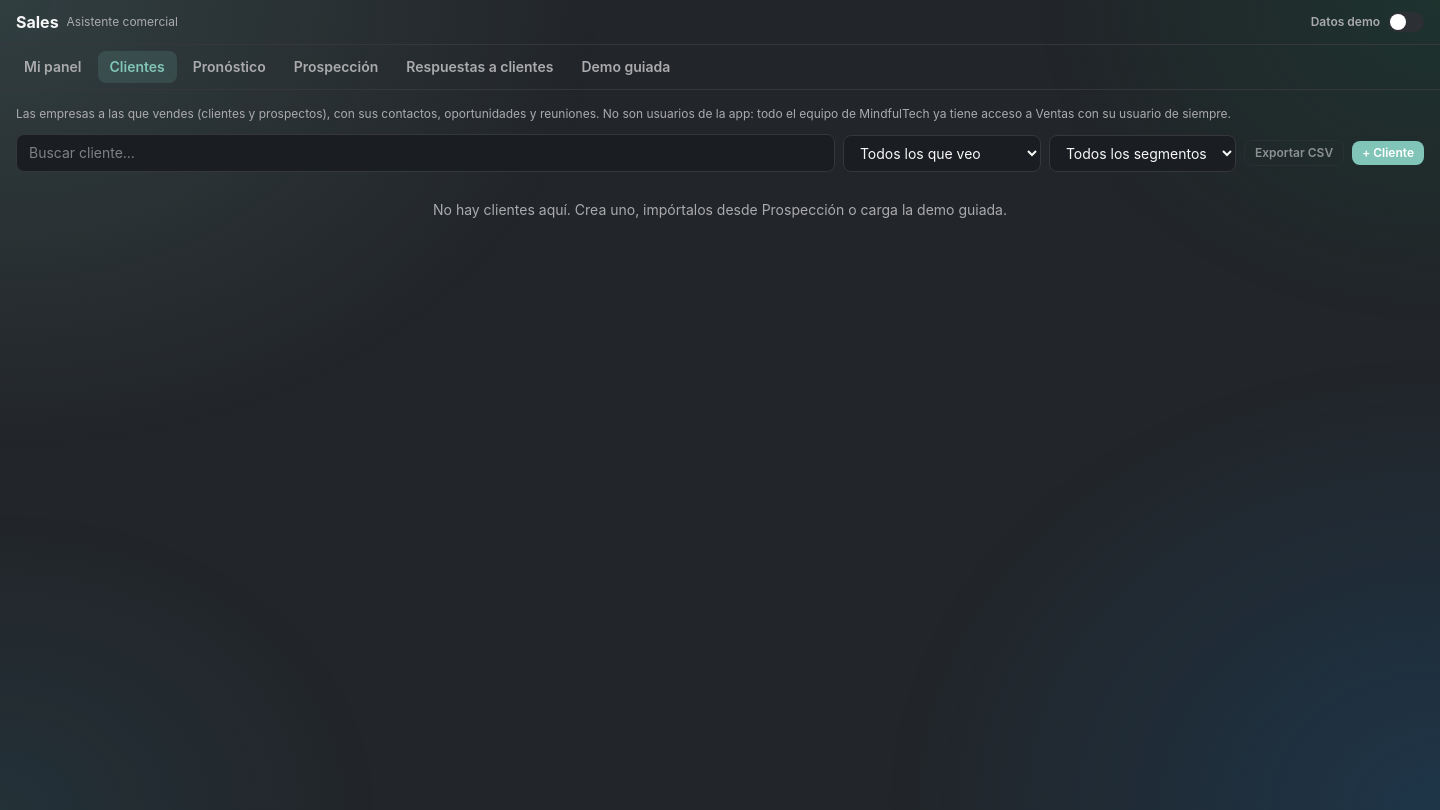
Test: the demo data switch › turned on with no demo on the server, loads it
Click the switch named "Datos demo" at (1406, 22), box [1388,12,1424,32]
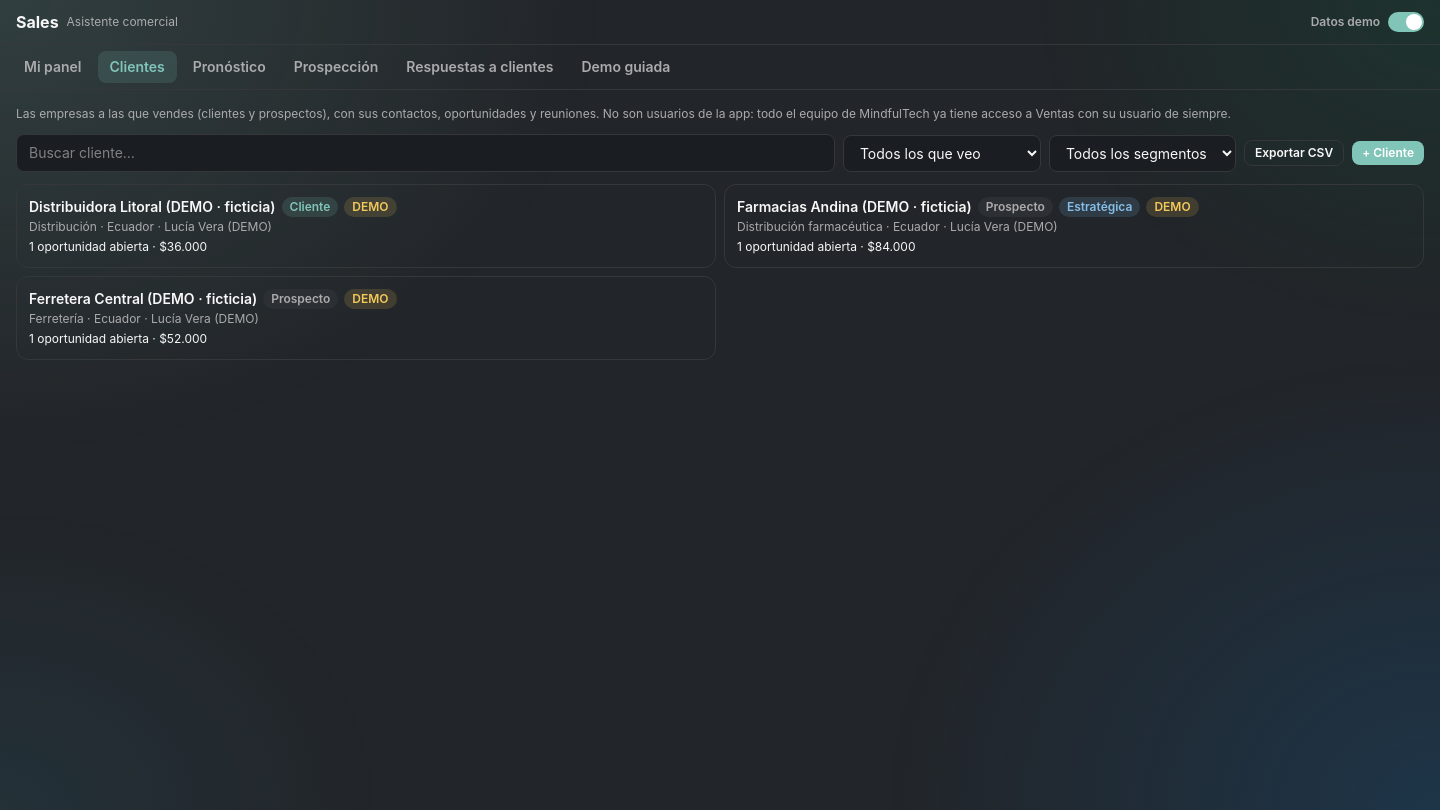
Expected: the text "Farmacias Andina (DEMO · ficticia)" is shown, [737,198,972,215]
